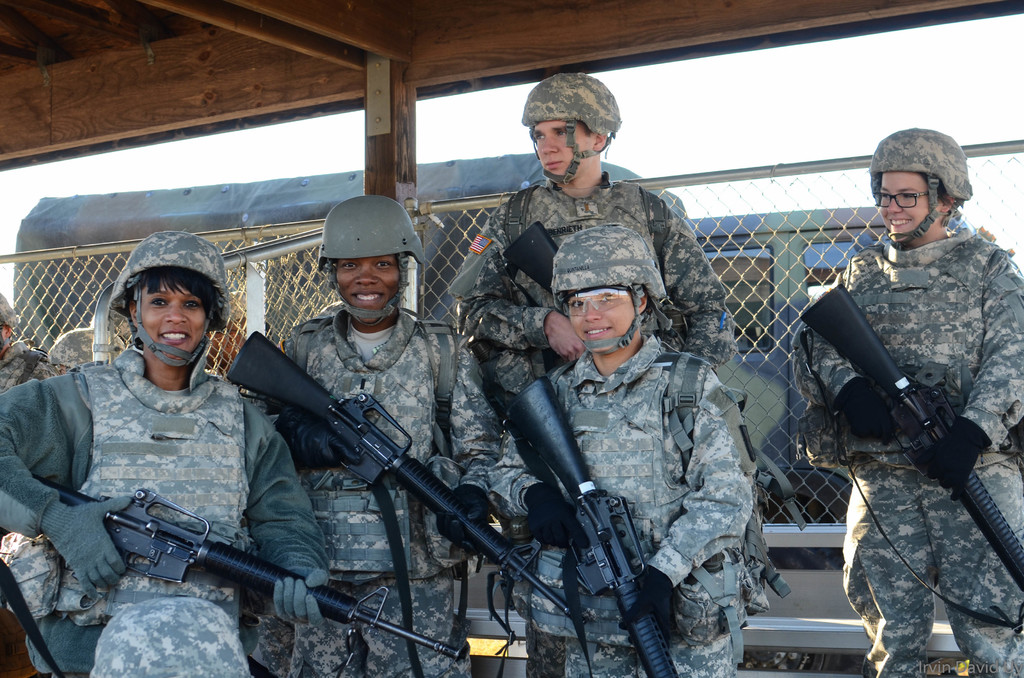Person: (0, 72, 1024, 678), (0, 227, 329, 677)
